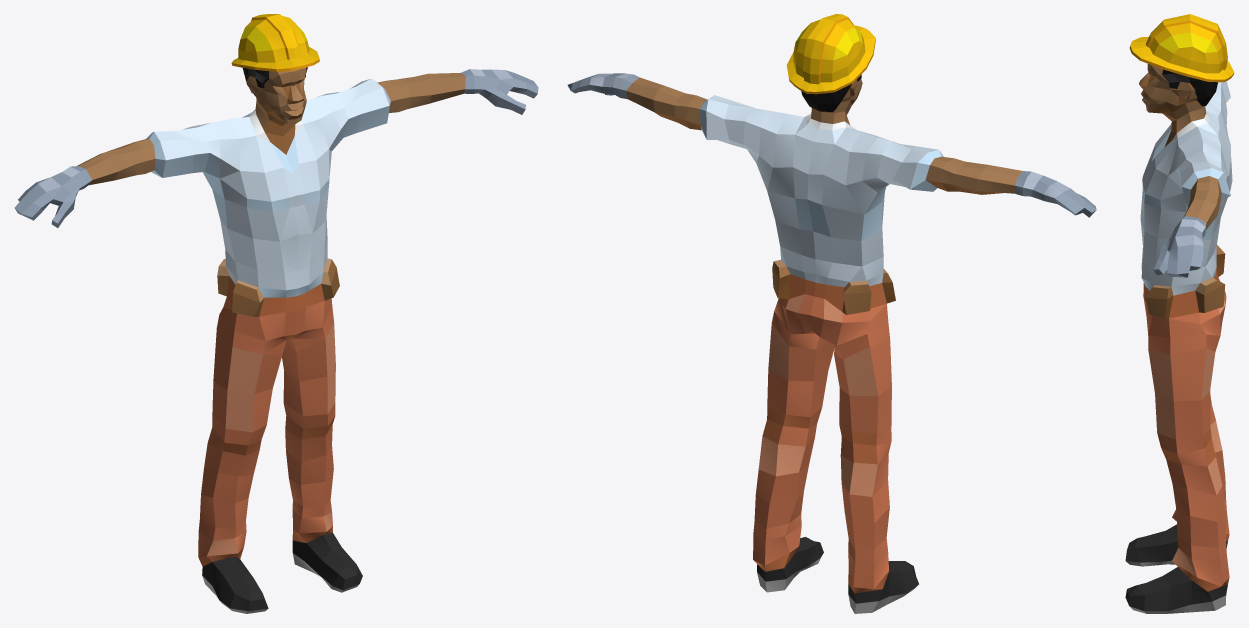
File: worker_Male_constructor_B-model.obj
3 renders of one model, left to right at view 1: azimuth 30°, elevation 25°; view 2: azimuth 150°, elevation 25°; view 3: azimuth 270°, elevation 25°, orthographic.
Parts seen in each view (by area): view 1: worker_Male_constructor_B; view 2: worker_Male_constructor_B; view 3: worker_Male_constructor_B.
Part boxes in pixels (left/top/right/bottom): worker_Male_constructor_B: left=14, top=14, right=538, bottom=613; worker_Male_constructor_B: left=567, top=14, right=1096, bottom=613; worker_Male_constructor_B: left=1125, top=14, right=1234, bottom=613.
Bounding box in the file's own units: 168 × 175 × 30.45.
